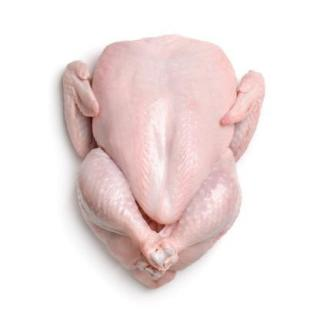Ayam: (64, 37, 267, 289)
